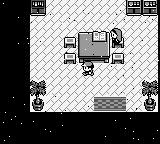leer: (92, 30, 107, 42)
main: (81, 61, 94, 76)
no-caminable: (1, 0, 160, 143), (78, 32, 109, 63), (30, 80, 47, 112), (141, 80, 158, 112), (126, 0, 157, 15), (31, 0, 46, 15)
npc: (110, 28, 124, 45)
puerta: (90, 97, 129, 112)
